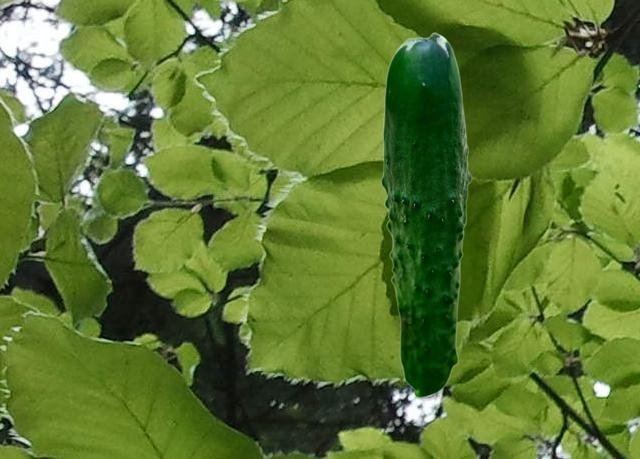cucumber: (380, 32, 471, 397)
